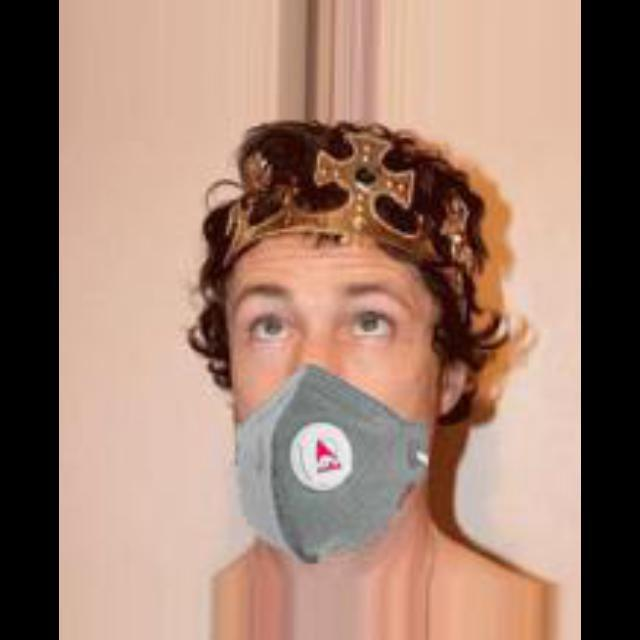suspicion: (184, 158, 526, 586)
